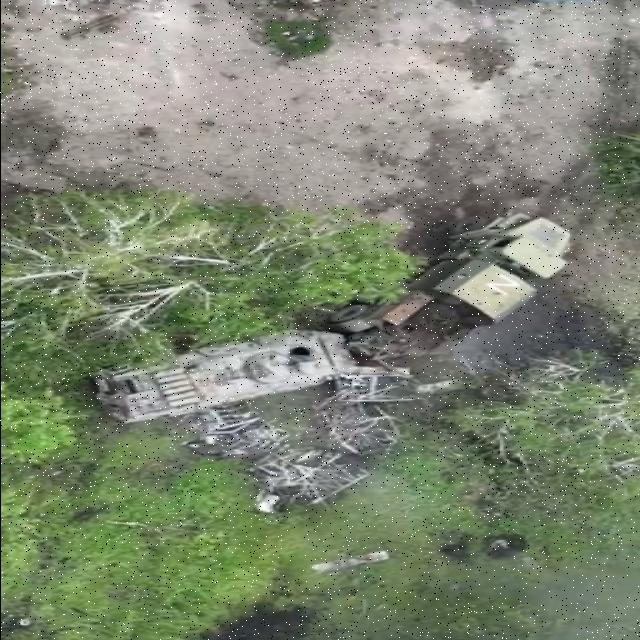APC-IFV: (93, 330, 345, 425)
TRUCK: (344, 208, 578, 362)
